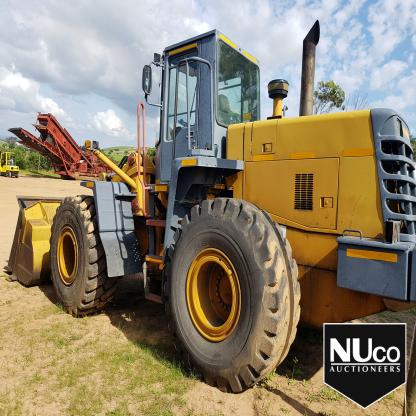bull_dozer/loader/grader: (5, 30, 416, 395)
